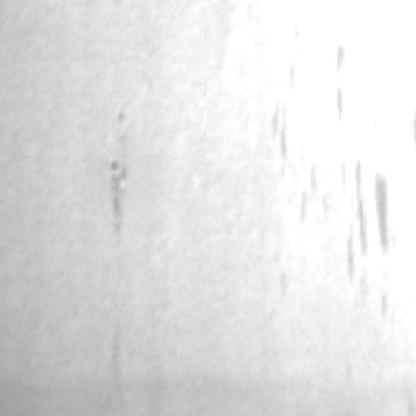inclusion: (335, 148, 397, 308), (100, 106, 140, 235), (264, 83, 302, 181)
